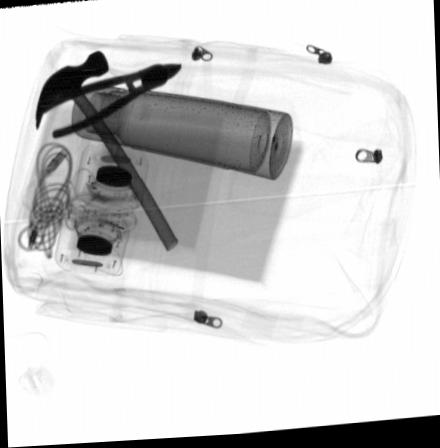Hammer: (34, 51, 179, 252)
Pliers: (52, 64, 181, 139)
